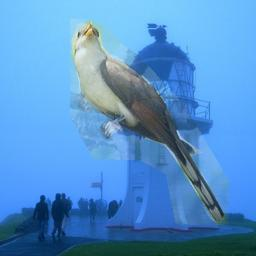Cuckoo: (70, 19, 230, 225)
